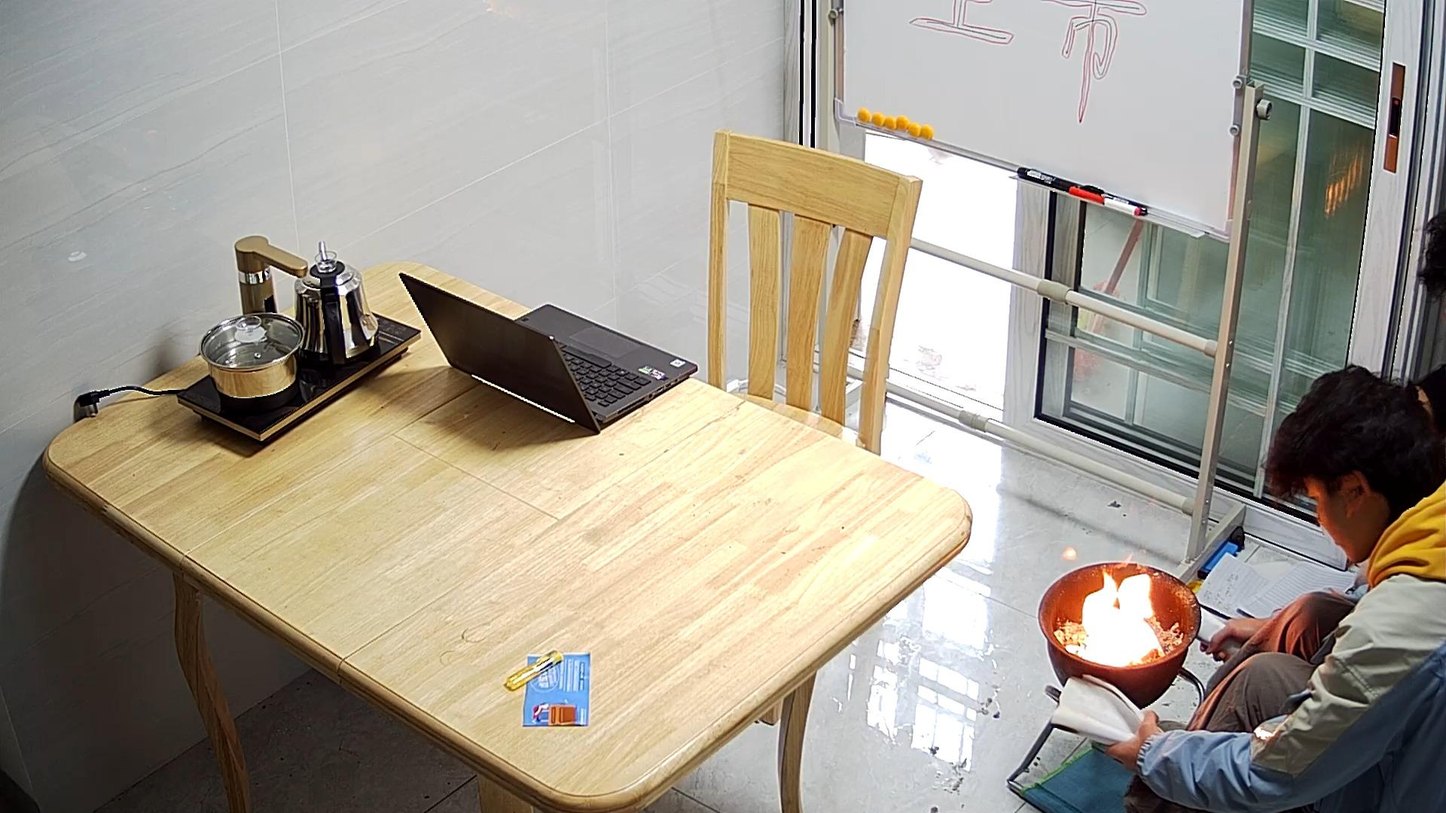fire: (1066, 572, 1162, 666)
